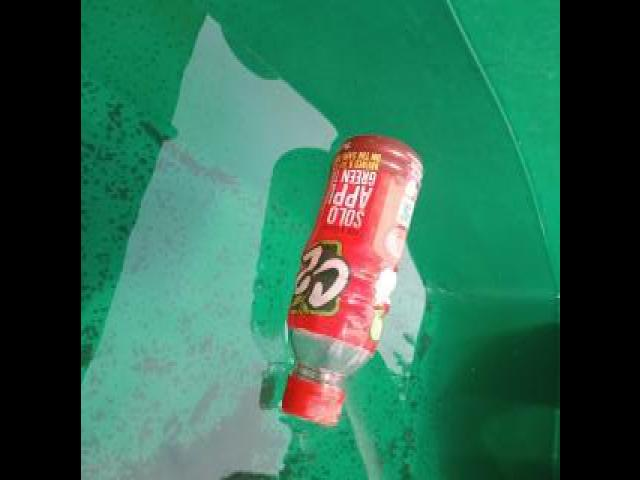Bottle: (278, 132, 424, 430)
